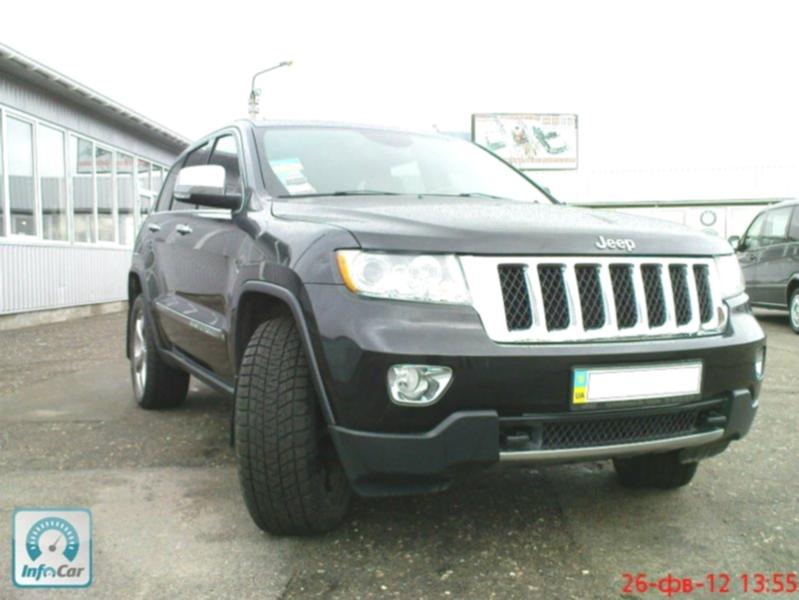jeep: (585, 223, 647, 265)
